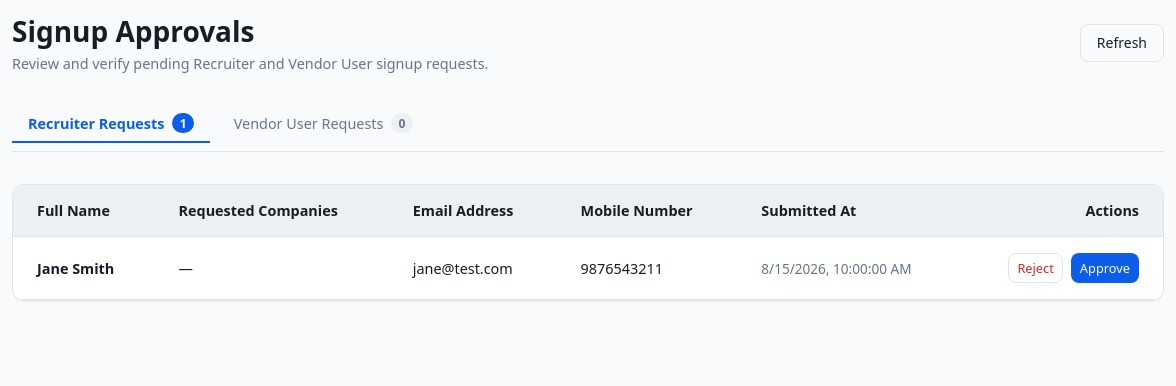
VMS Frontend Tests › Recruiter signup approvals queue › Reject sends {} as request body after confirm and updates UI
The image size is (1176, 386).
Expected: the text "Jane Smith" is shown, [13, 237, 154, 300]
Click the button "Reject" at (1036, 268), box [1008, 253, 1063, 283]
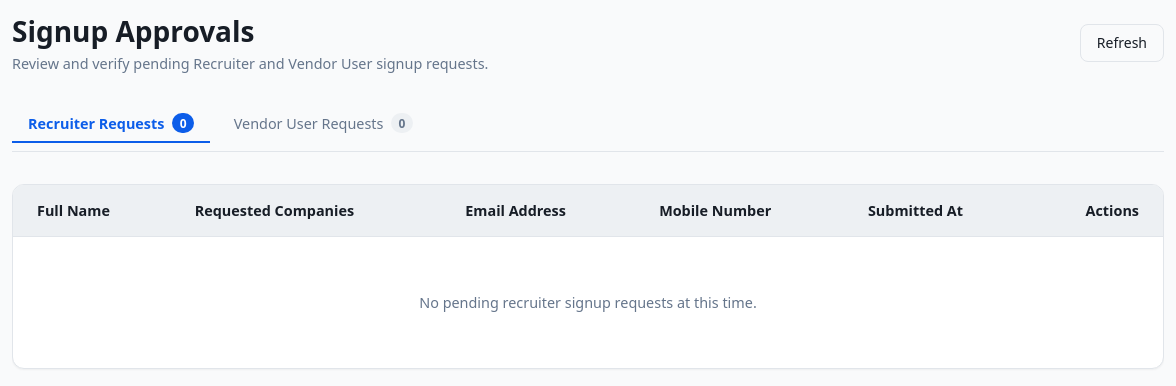
Expected: the text "Jane Smith" is gone
